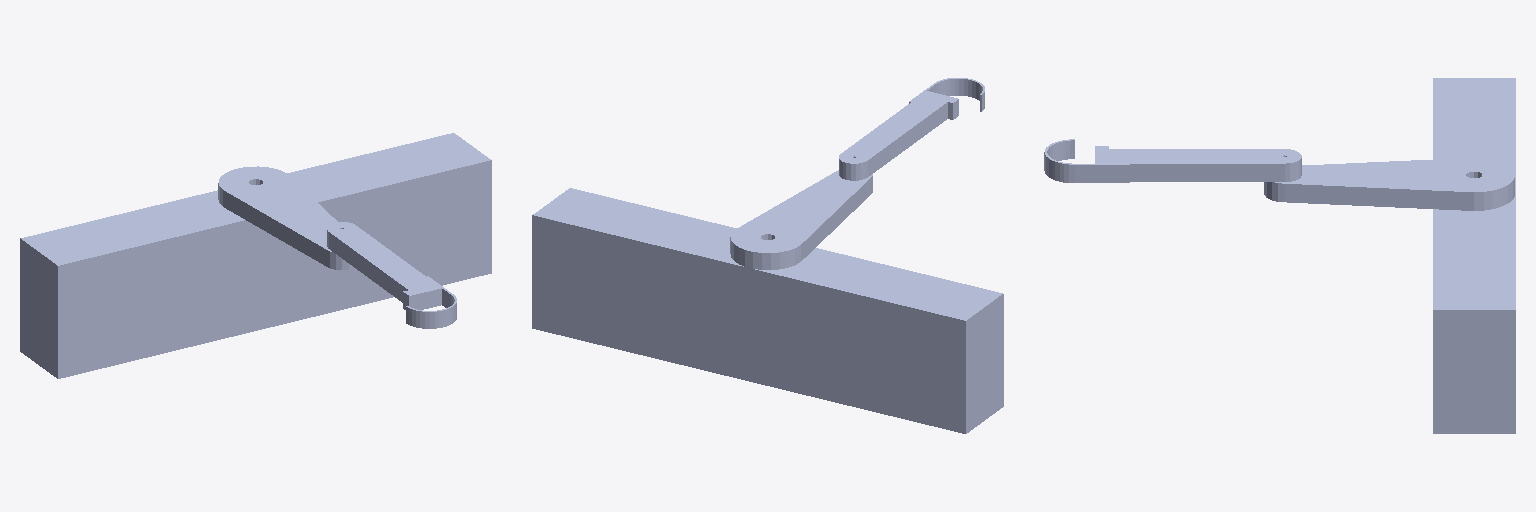
URDF robot description (Test_f):
<?xml version="1.0" encoding="utf-8"?>
<!-- This URDF was automatically created by SolidWorks to URDF Exporter! Originally created by [author] ([email redacted]) 
     Commit Version: 1.5.1-0-g916b5db  Build Version: 1.5.7152.31018
     For more information, please see http://wiki.ros.org/sw_urdf_exporter -->
<robot
  name="Test_f">
  <link
    name="base_link">
    <inertial>
      <origin
        xyz="-8.9041E-18 8.1415E-18 0.05"
        rpy="0 0 0" />
      <mass
        value="2.3887" />
      <inertia
        ixx="0.0027105"
        ixy="-2.2551E-19"
        ixz="-5.2259E-36"
        iyy="0.03399"
        iyz="-7.8868E-37"
        izz="0.03272" />
    </inertial>
    <visual>
      <origin
        xyz="0 0 0"
        rpy="0 0 0" />
      <geometry>
        <mesh
          filename="package://Test_f/meshes/base_link.STL" />
      </geometry>
      <material
        name="">
        <color
          rgba="0.79216 0.81961 0.93333 1" />
      </material>
    </visual>
    <collision>
      <origin
        xyz="0 0 0"
        rpy="0 0 0" />
      <geometry>
        <mesh
          filename="package://Test_f/meshes/base_link.STL" />
      </geometry>
    </collision>
  </link>
  <link
    name="Link_1">
    <inertial>
      <origin
        xyz="5.845E-18 -0.052483 -0.0075"
        rpy="0 0 0" />
      <mass
        value="0.11774" />
      <inertia
        ixx="0.00028197"
        ixy="1.6229E-20"
        ixz="-1.3061E-22"
        iyy="2.4707E-05"
        iyz="4.1357E-21"
        izz="0.00030226" />
    </inertial>
    <visual>
      <origin
        xyz="0 0 0"
        rpy="0 0 0" />
      <geometry>
        <mesh
          filename="package://Test_f/meshes/Link_1.STL" />
      </geometry>
      <material
        name="">
        <color
          rgba="0.79216 0.81961 0.93333 1" />
      </material>
    </visual>
    <collision>
      <origin
        xyz="0 0 0"
        rpy="0 0 0" />
      <geometry>
        <mesh
          filename="package://Test_f/meshes/Link_1.STL" />
      </geometry>
    </collision>
  </link>
  <joint
    name="Link_1_J"
    type="continuous">
    <origin
      xyz="0 0 0.115"
      rpy="0 0 0" />
    <parent
      link="base_link" />
    <child
      link="Link_1" />
    <axis
      xyz="0 0 1" />
  </joint>
  <link
    name="Link_2">
    <inertial>
      <origin
        xyz="3.8634E-18 -0.064076 -0.0075"
        rpy="0 0 0" />
      <mass
        value="0.055382" />
      <inertia
        ixx="0.00010161"
        ixy="1.0408E-20"
        ixz="8.5243E-23"
        iyy="3.8929E-06"
        iyz="-8.5264E-23"
        izz="0.00010342" />
    </inertial>
    <visual>
      <origin
        xyz="0 0 0"
        rpy="0 0 0" />
      <geometry>
        <mesh
          filename="package://Test_f/meshes/Link_2.STL" />
      </geometry>
      <material
        name="">
        <color
          rgba="0.79216 0.81961 0.93333 1" />
      </material>
    </visual>
    <collision>
      <origin
        xyz="0 0 0"
        rpy="0 0 0" />
      <geometry>
        <mesh
          filename="package://Test_f/meshes/Link_2.STL" />
      </geometry>
    </collision>
  </link>
  <joint
    name="Link_2_J"
    type="continuous">
    <origin
      xyz="0 -0.13784 0.015"
      rpy="0 0 0" />
    <parent
      link="Link_1" />
    <child
      link="Link_2" />
    <axis
      xyz="0 0 1" />
  </joint>
  <link
    name="Link_3">
    <inertial>
      <origin
        xyz="-0.014073 -0.04078 0"
        rpy="0 0 0" />
      <mass
        value="0.0031792" />
      <inertia
        ixx="1.1351E-06"
        ixy="-5.2366E-07"
        ixz="1.1675E-22"
        iyy="8.2687E-07"
        iyz="-1.3786E-23"
        izz="1.8427E-06" />
    </inertial>
    <visual>
      <origin
        xyz="0 0 0"
        rpy="0 0 0" />
      <geometry>
        <mesh
          filename="package://Test_f/meshes/Link_3.STL" />
      </geometry>
      <material
        name="">
        <color
          rgba="0.79216 0.81961 0.93333 1" />
      </material>
    </visual>
    <collision>
      <origin
        xyz="0 0 0"
        rpy="0 0 0" />
      <geometry>
        <mesh
          filename="package://Test_f/meshes/Link_3.STL" />
      </geometry>
    </collision>
  </link>
  <joint
    name="Link_3_J"
    type="prismatic">
    <origin
      xyz="0.014528 -0.1128 -0.0075"
      rpy="0 0 0" />
    <parent
      link="Link_2" />
    <child
      link="Link_3" />
    <axis
      xyz="0 -1 0" />
    <limit
      lower="0"
      upper="0"
      effort="0"
      velocity="0" />
  </joint>
  <link
    name="Link_end">
    <inertial>
      <origin
        xyz="-0.0025 0.005 0"
        rpy="0 0 0" />
      <mass
        value="0.00075" />
      <inertia
        ixx="2.0313E-08"
        ixy="-3.0818E-25"
        ixz="5.6936E-25"
        iyy="1.5625E-08"
        iyz="-1.7703E-24"
        izz="7.8125E-09" />
    </inertial>
    <visual>
      <origin
        xyz="0 0 0"
        rpy="0 0 0" />
      <geometry>
        <mesh
          filename="package://Test_f/meshes/Link_end.STL" />
      </geometry>
      <material
        name="">
        <color
          rgba="0.79216 0.81961 0.93333 1" />
      </material>
    </visual>
    <collision>
      <origin
        xyz="0 0 0"
        rpy="0 0 0" />
      <geometry>
        <mesh
          filename="package://Test_f/meshes/Link_end.STL" />
      </geometry>
    </collision>
  </link>
  <joint
    name="Joint_e"
    type="fixed">
    <origin
      xyz="-0.012528 -0.1378 -0.0075"
      rpy="0 0 0" />
    <parent
      link="Link_2" />
    <child
      link="Link_end" />
    <axis
      xyz="0 0 0" />
  </joint>
</robot>

--- Render facts (derived) ---
Views: 3 orthographic renders of the robot side by side, from view 1: azimuth 30°, elevation 25°; view 2: azimuth 150°, elevation 25°; view 3: azimuth 270°, elevation 25°.
Model Test_f with 5 links and 4 joints (2 continuous, 1 prismatic, 1 fixed), rooted at base_link, posed every joint at zero.
Links seen in each view (by area): view 1: base_link, Link_1, Link_2, Link_3; view 2: base_link, Link_1, Link_2, Link_3; view 3: base_link, Link_1, Link_2, Link_3.
Boxes of the visible links, x1=… form: base_link: x1=20, y1=133, x2=491, y2=378; Link_1: x1=218, y1=166, x2=353, y2=269; Link_2: x1=327, y1=222, x2=441, y2=309; Link_3: x1=406, y1=276, x2=456, y2=328; base_link: x1=532, y1=188, x2=1003, y2=433; Link_1: x1=730, y1=170, x2=872, y2=269; Link_2: x1=839, y1=91, x2=953, y2=180; Link_3: x1=909, y1=78, x2=984, y2=111; base_link: x1=1433, y1=78, x2=1515, y2=433; Link_1: x1=1264, y1=158, x2=1514, y2=210; Link_2: x1=1095, y1=149, x2=1301, y2=181; Link_3: x1=1044, y1=139, x2=1129, y2=182.
Bounding box of the posed robot: 0.4 × 0.3426 × 0.13 m (x, y, z).
Meshes: 5 distinct files referenced, 5 mesh visuals loaded (5 binary STL).